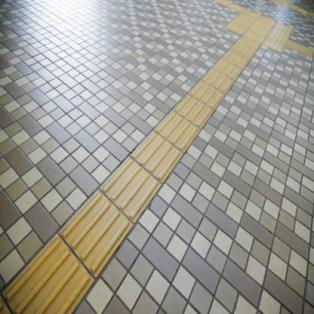Podoctatil: (0, 7, 293, 312)
